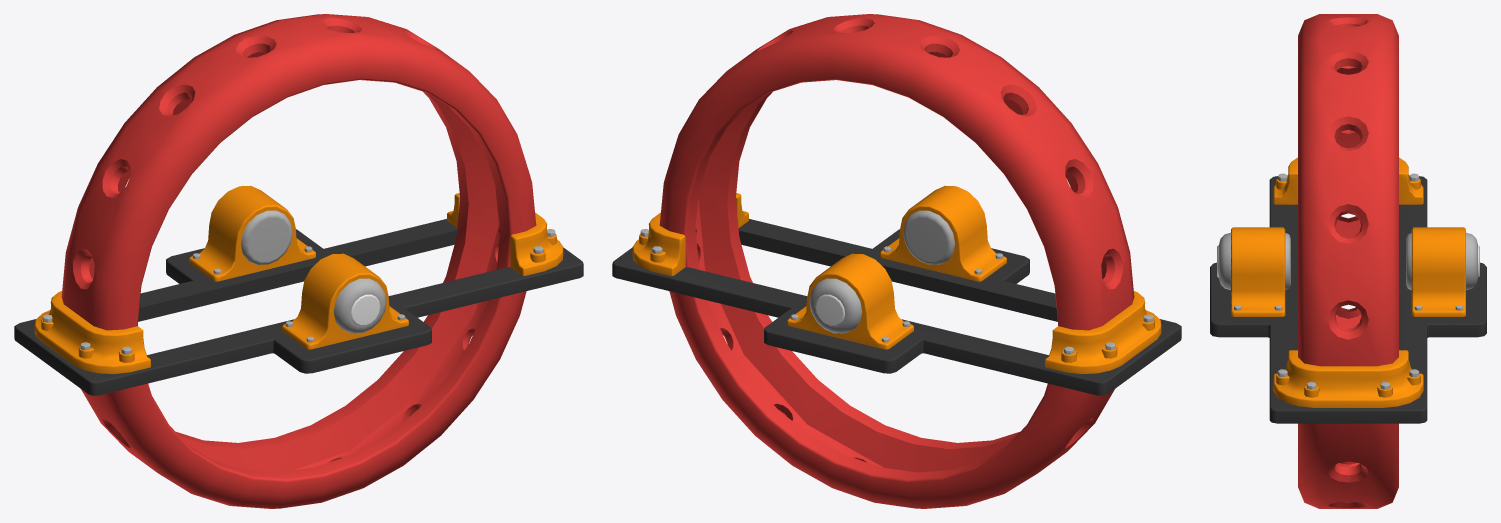
Rendered from dynamo_1_001.fbx.
3 views of the same model, side by side, from view 1: azimuth 30°, elevation 25°; view 2: azimuth 150°, elevation 25°; view 3: azimuth 270°, elevation 25° (orthographic). The views are drawn at different scales.
Visible parts, largest first — view 1: dynamo_1_001; view 2: dynamo_1_001; view 3: dynamo_1_001.
Part boxes in pixels (x1,y1,x2,y2): dynamo_1_001: [14, 14, 583, 508]; dynamo_1_001: [612, 14, 1181, 508]; dynamo_1_001: [1210, 14, 1486, 508].
Bounding box in the file's own units: 3519 × 1753 × 3137.
